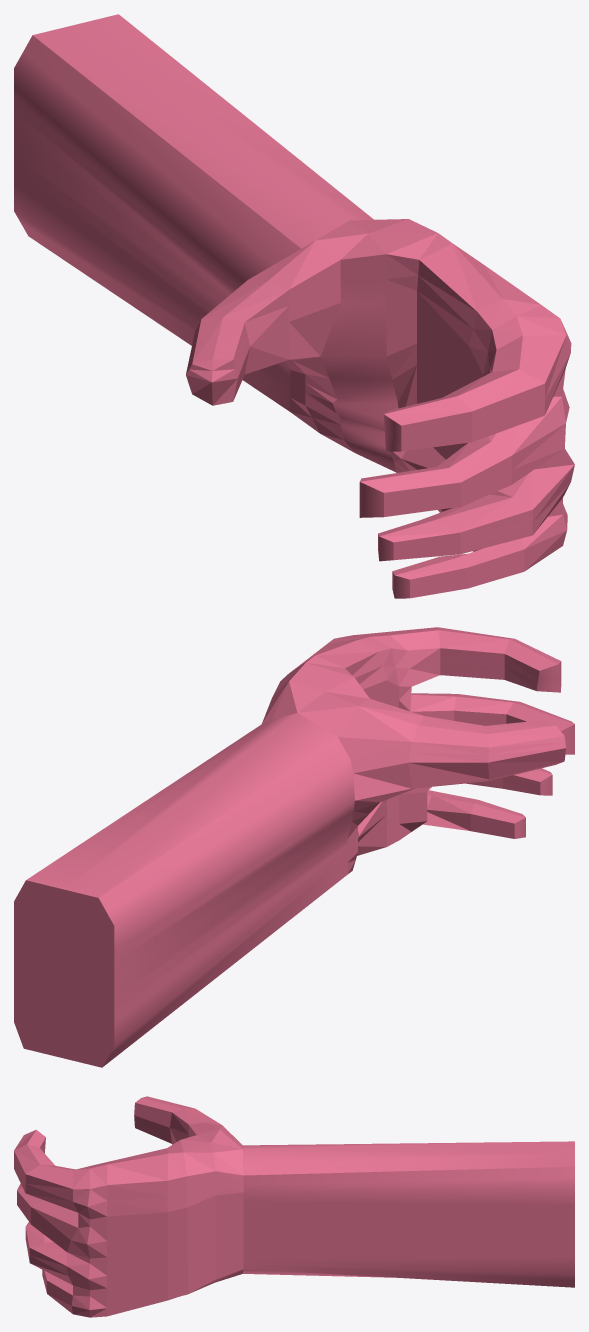
File: LeftHand.FBX
The picture shows the model from 3 angles, top to bottom: view 1: azimuth 30°, elevation 25°; view 2: azimuth 150°, elevation 25°; view 3: azimuth 270°, elevation 25°; orthographic projection. The views are drawn at different scales.
Parts seen in each view (by area): view 1: Box001; view 2: Box001; view 3: Box001.
Boxes of the visible parts, bbox=[...] form: Box001: bbox=[14, 14, 574, 598]; Box001: bbox=[14, 627, 574, 1067]; Box001: bbox=[14, 1096, 574, 1317].
Size of the model in its own units: 24.69 by 18.17 by 59.81.
